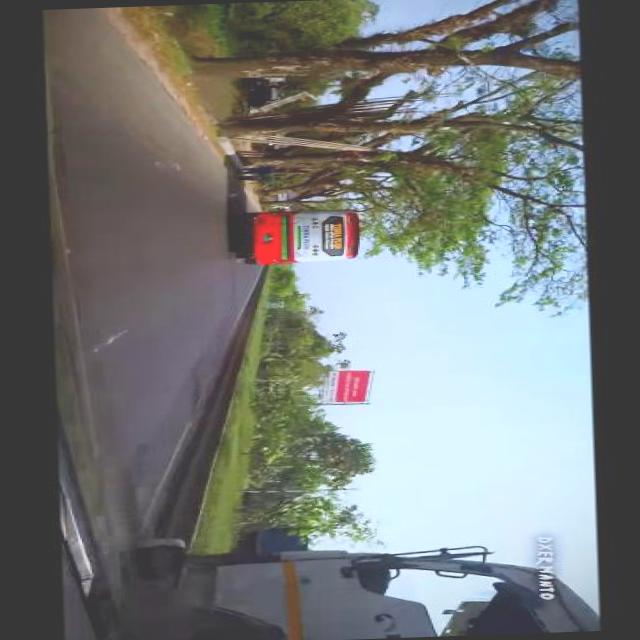bus: (228, 206, 362, 266)
